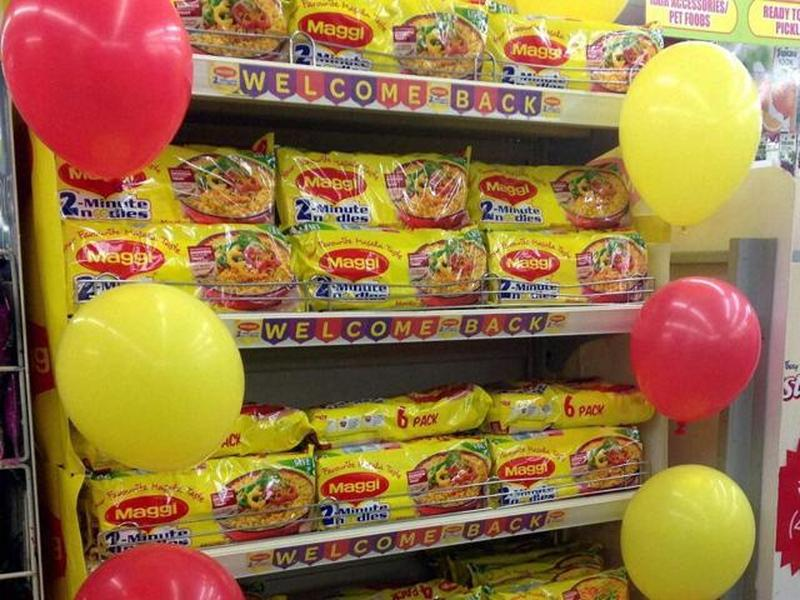maggi-family: (65, 218, 301, 301), (56, 139, 278, 220), (277, 141, 471, 227), (294, 1, 488, 83), (90, 464, 317, 533), (294, 228, 486, 303), (489, 4, 660, 86), (481, 229, 653, 299), (469, 160, 638, 231), (311, 446, 493, 506), (310, 384, 492, 442), (487, 428, 651, 485), (490, 380, 653, 425)
